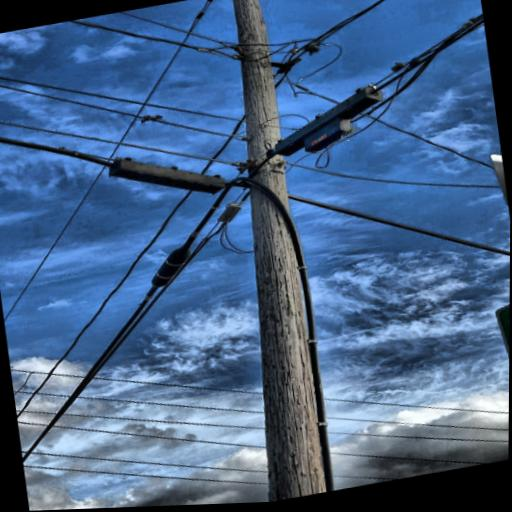pole: (183, 0, 352, 505)
